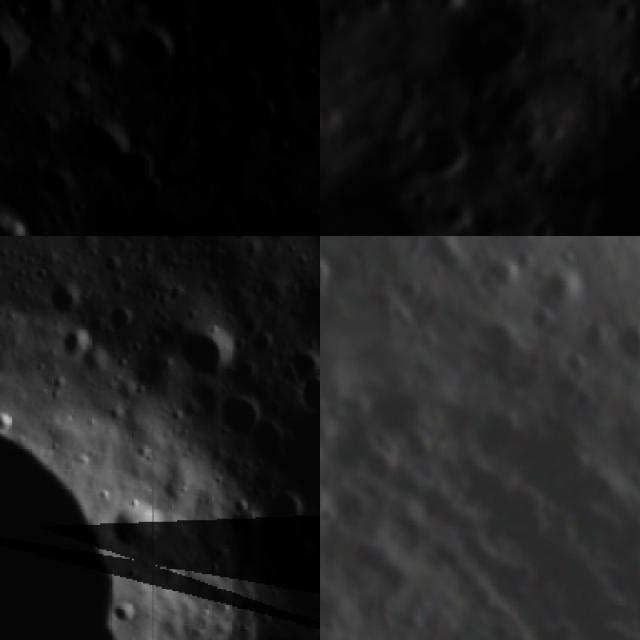crater: (0, 286, 278, 640), (448, 390, 538, 480), (92, 130, 181, 218), (64, 92, 146, 173), (395, 111, 477, 192), (463, 296, 538, 375), (0, 0, 46, 104), (118, 14, 186, 80), (170, 316, 240, 380), (406, 236, 480, 288), (0, 172, 53, 236), (212, 56, 270, 112), (242, 418, 298, 476), (269, 50, 320, 113), (212, 385, 267, 443), (275, 571, 320, 640), (599, 302, 640, 371), (547, 339, 600, 392), (236, 84, 288, 136), (394, 421, 446, 472), (293, 259, 320, 351), (8, 0, 76, 34), (253, 119, 300, 166), (263, 0, 320, 37), (281, 185, 320, 236), (320, 236, 343, 302), (291, 374, 320, 420), (517, 209, 566, 236), (547, 240, 583, 276), (608, 61, 640, 93), (618, 0, 640, 37), (524, 236, 573, 249)
